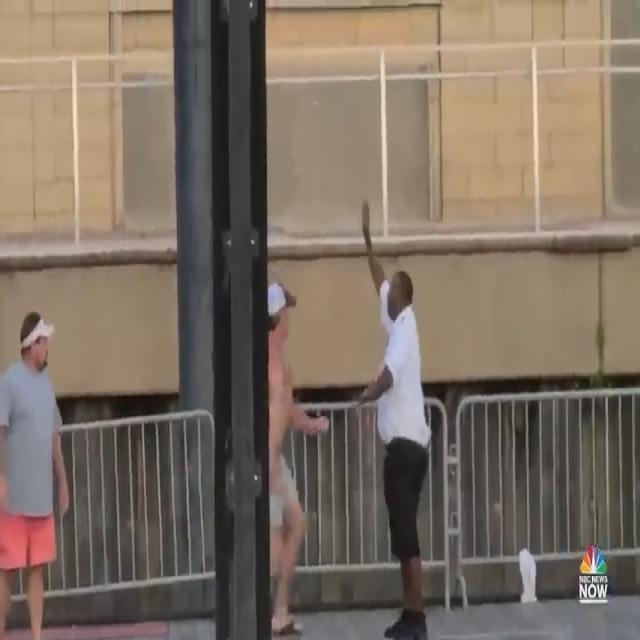fight: (266, 278, 329, 640)
non-fight: (352, 194, 439, 640), (0, 308, 68, 640)
